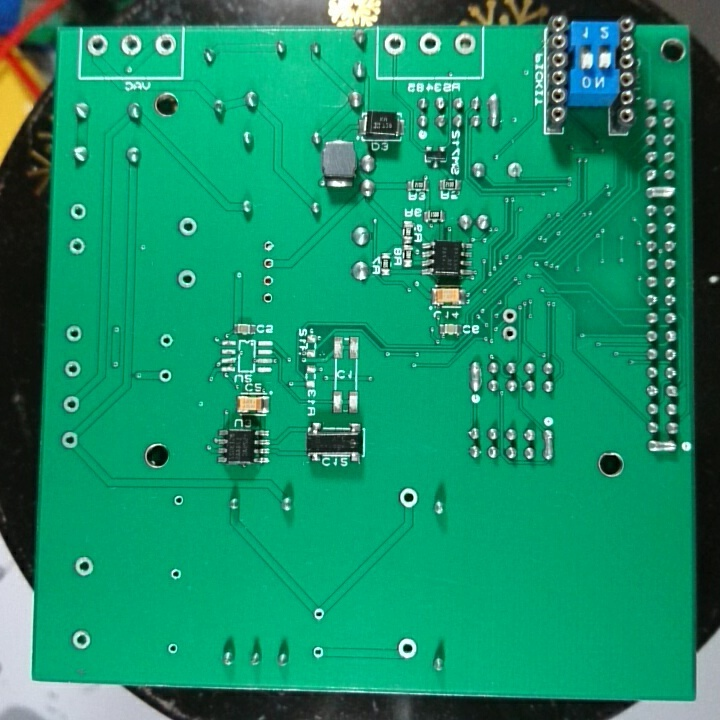F: (415, 29, 444, 58), (452, 30, 479, 61), (117, 30, 144, 60), (381, 30, 408, 60), (84, 32, 110, 62), (152, 28, 177, 59), (70, 554, 97, 581), (176, 213, 200, 242), (68, 626, 93, 653), (396, 484, 420, 512), (173, 267, 199, 292), (395, 635, 419, 661), (68, 200, 92, 226), (63, 322, 86, 349), (57, 427, 80, 453), (60, 357, 83, 382), (59, 391, 82, 415), (66, 236, 88, 258), (156, 330, 177, 353), (500, 323, 519, 345), (155, 366, 174, 386), (505, 160, 524, 179), (501, 306, 519, 325), (261, 254, 279, 271), (168, 564, 184, 583), (311, 606, 327, 623), (171, 492, 187, 509), (261, 288, 276, 306), (260, 272, 276, 288), (165, 640, 180, 656), (310, 643, 324, 660), (260, 238, 276, 252)
P: (485, 92, 504, 130), (644, 436, 679, 456), (643, 184, 678, 201), (541, 427, 557, 463), (468, 358, 484, 392)
